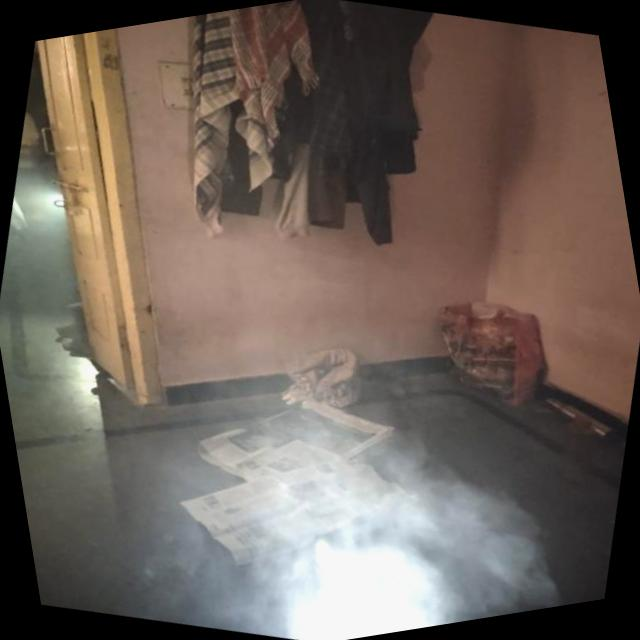smoke: (235, 417, 530, 640)
